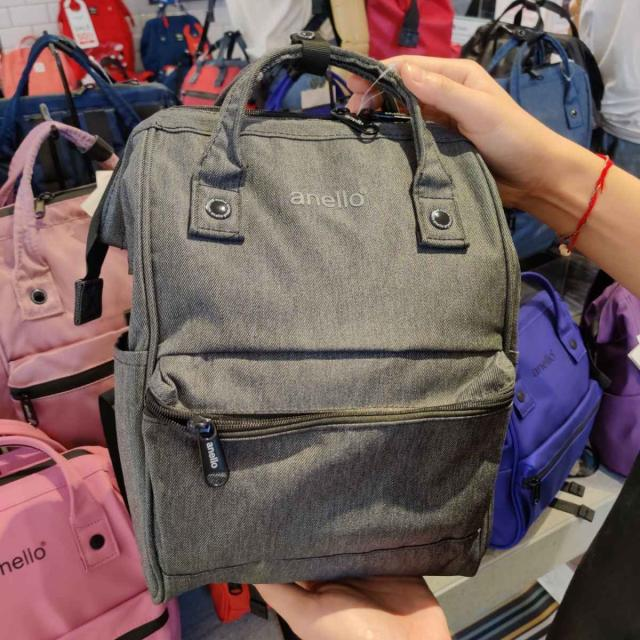Handbag: (99, 20, 527, 586)
